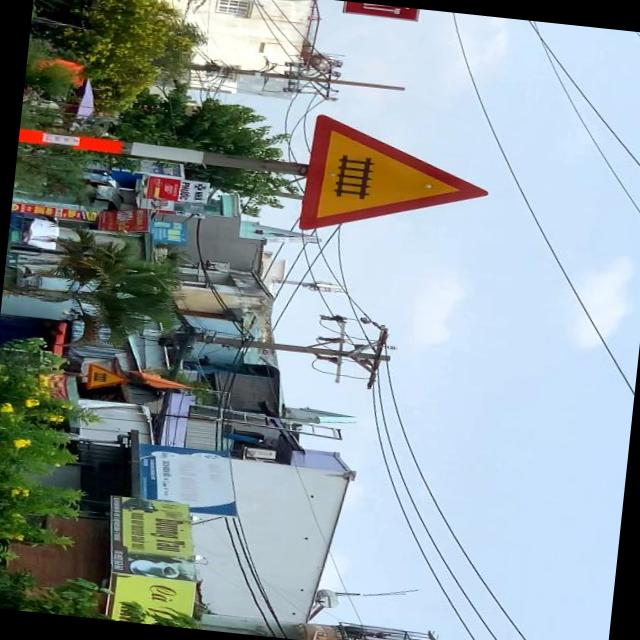W-210: (296, 112, 496, 252)
